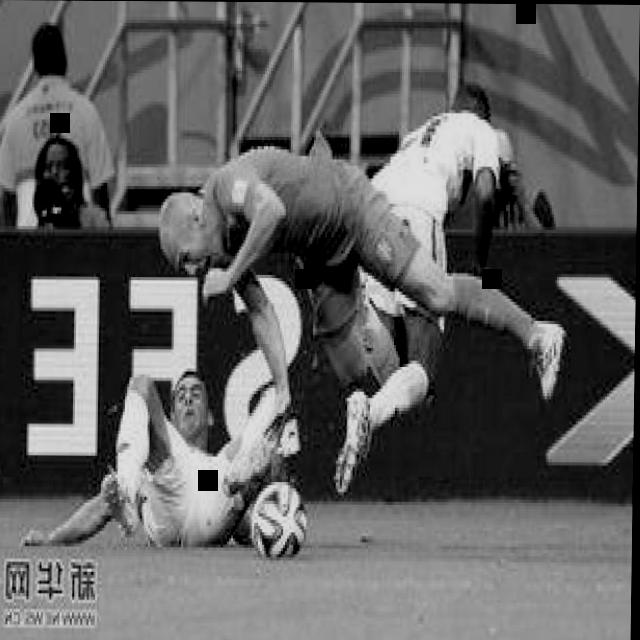Fall-Detected: (161, 89, 543, 477)
